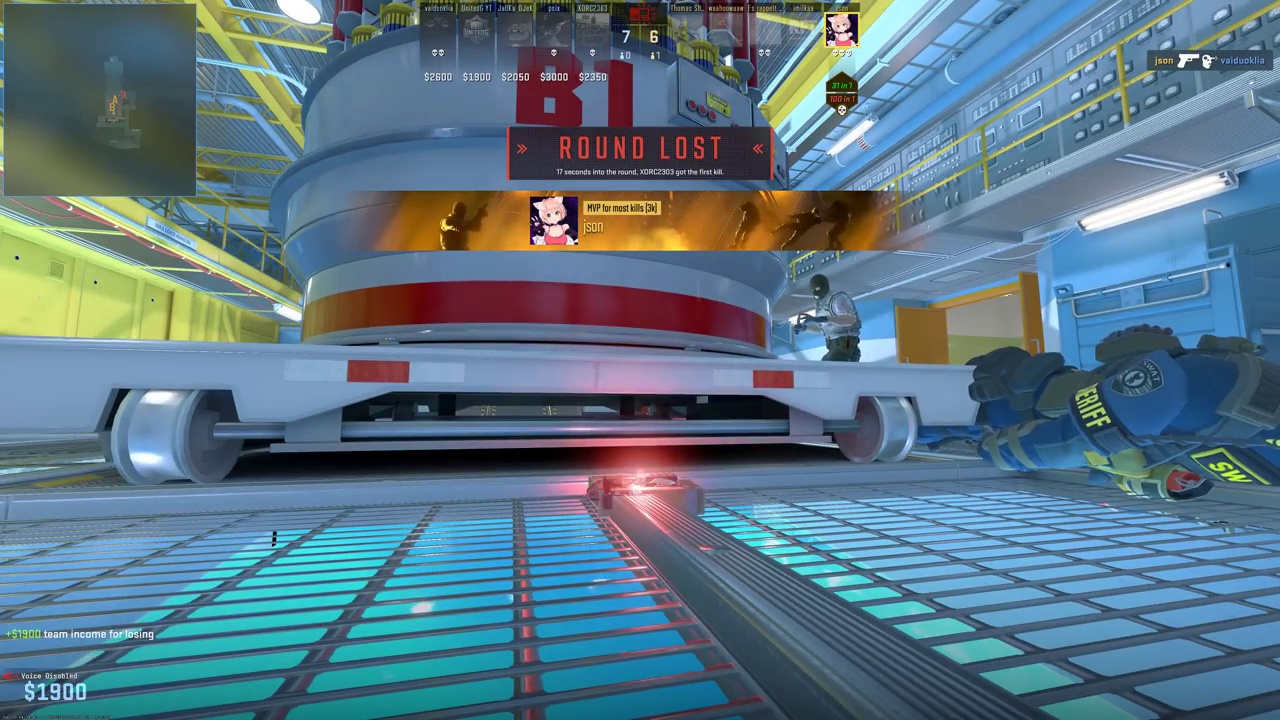Terrorist: (807, 273, 861, 361)
